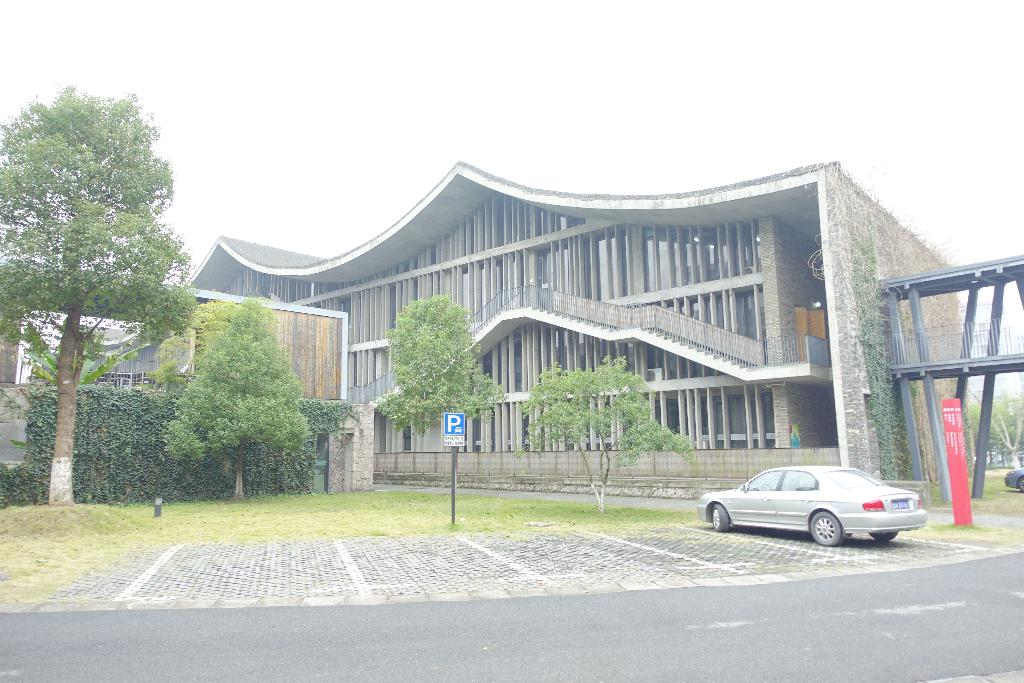Car: (704, 462, 926, 547), (1002, 467, 1023, 492)
